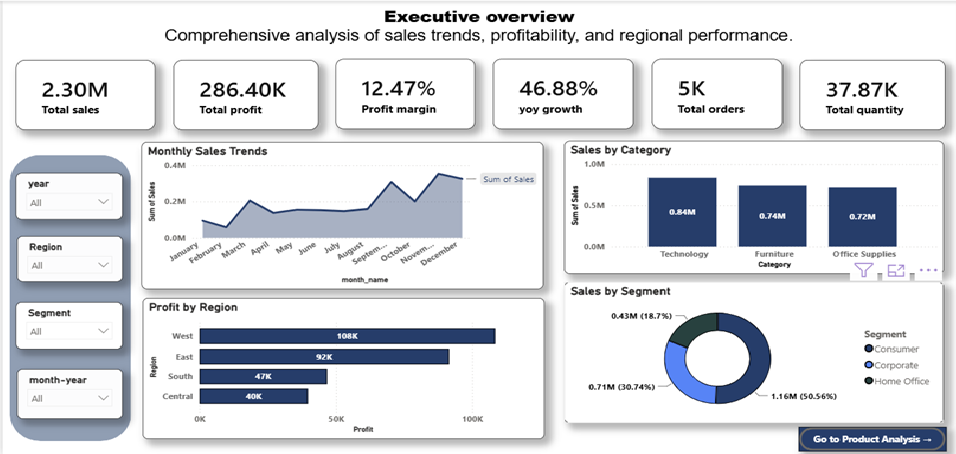

What the dashboard file says about the page in this screenshot:
{"tool":"powerbi","page":{"name":"Executive overview ","canvas":[1280,720],"ordinal":0},"visuals":[{"type":"shape","box":[9.7,243.5,162.9,453.2],"z":0},{"type":"cardVisual","title":"Total sales","fields":{"Data":["Measure table.Total_sales"]},"box":[17.7,91.9,187.1,111.3],"z":1000},{"type":"cardVisual","fields":{"Data":["Measure table.Total_profit"]},"box":[228.7,91.9,195.2,111.3],"z":2000},{"type":"cardVisual","fields":{"Data":["Measure table.Total_orders"]},"box":[871.3,90.3,175.8,111.3],"z":3000},{"type":"cardVisual","fields":{"Data":["Measure table.Profit_margin%"]},"box":[447.7,90.3,187.1,111.3],"z":4000},{"type":"cardVisual","fields":{"Data":["Measure table.yoy%"]},"box":[658.7,90.3,188.7,111.3],"z":5000},{"type":"cardVisual","fields":{"Data":["Measure table.Total_quantity"]},"box":[1071,91.9,195.2,111.3],"z":6000},{"type":"textbox","title":"guhgh","box":[0,0,1278.9,89.5],"z":7000},{"type":"areaChart","title":"Monthly Sales Trends ","fields":{"Y":["Sum(Orders.Sales)"],"Category":["Datetable.month_name"]},"box":[185.5,222.6,540.3,233.9],"z":8000},{"type":"clusteredColumnChart","title":"Sales by Category","fields":{"Category":["Orders.Category"],"Y":["Sum(Orders.Sales)"]},"box":[753.2,221,509.7,211.3],"z":9000},{"type":"barChart","title":"Profit by Region","fields":{"Category":["Orders.Region"],"Y":["Sum(Orders.Profit)"]},"box":[187.1,471,540.3,222.6],"z":10000},{"type":"donutChart","title":"Sales by Segment","fields":{"Category":["Orders.Segment"],"Y":["Sum(Orders.Sales)"]},"box":[753.2,445.2,509.7,222.6],"z":11000},{"type":"slicer","fields":{"Values":["Orders.Region"]},"box":[19.4,372.6,141.9,72.6],"z":12000},{"type":"slicer","fields":{"Values":["Orders.Segment"]},"box":[17.7,477.4,143.5,74.2],"z":13000},{"type":"slicer","fields":{"Values":["Datetable.year"]},"box":[17.7,272.6,143.5,74.2],"z":14000},{"type":"slicer","fields":{"Values":["Datetable.month_year"]},"box":[19.4,582.3,141.9,79],"z":15000},{"type":"actionButton","title":"Go to Product Analysis →","box":[1069.4,674.2,198.4,38.7],"z":16000}]}

Visuals, with their boxes on the page's 1280x720 design canvas (x1, y1, x2, y2). These are canvas units, not pixel positions in the 956x454 screenshot, which may show the page scaled, cropped or inside an application window:
shape: detection(10, 244, 173, 697)
"Total sales" cardVisual: detection(18, 92, 205, 203)
cardVisual - Measure table.Total_profit: detection(229, 92, 424, 203)
cardVisual - Measure table.Total_orders: detection(871, 90, 1047, 202)
cardVisual - Measure table.Profit_margin%: detection(448, 90, 635, 202)
cardVisual - Measure table.yoy%: detection(659, 90, 847, 202)
cardVisual - Measure table.Total_quantity: detection(1071, 92, 1266, 203)
"guhgh" textbox: detection(0, 0, 1279, 90)
"Monthly Sales Trends " areaChart: detection(186, 223, 726, 456)
"Sales by Category" clusteredColumnChart: detection(753, 221, 1263, 432)
"Profit by Region" barChart: detection(187, 471, 727, 694)
"Sales by Segment" donutChart: detection(753, 445, 1263, 668)
slicer - Orders.Region: detection(19, 373, 161, 445)
slicer - Orders.Segment: detection(18, 477, 161, 552)
slicer - Datetable.year: detection(18, 273, 161, 347)
slicer - Datetable.month_year: detection(19, 582, 161, 661)
"Go to Product Analysis →" actionButton: detection(1069, 674, 1268, 713)
